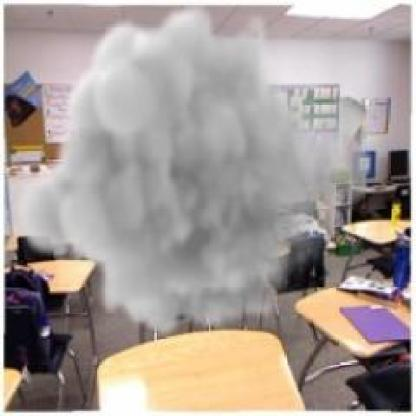Smoke: (11, 0, 374, 338)
